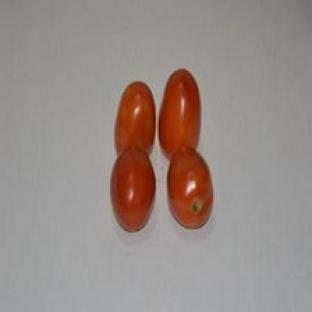Tomato: (111, 148, 155, 231), (159, 69, 200, 158), (168, 148, 213, 228), (115, 81, 155, 154)
